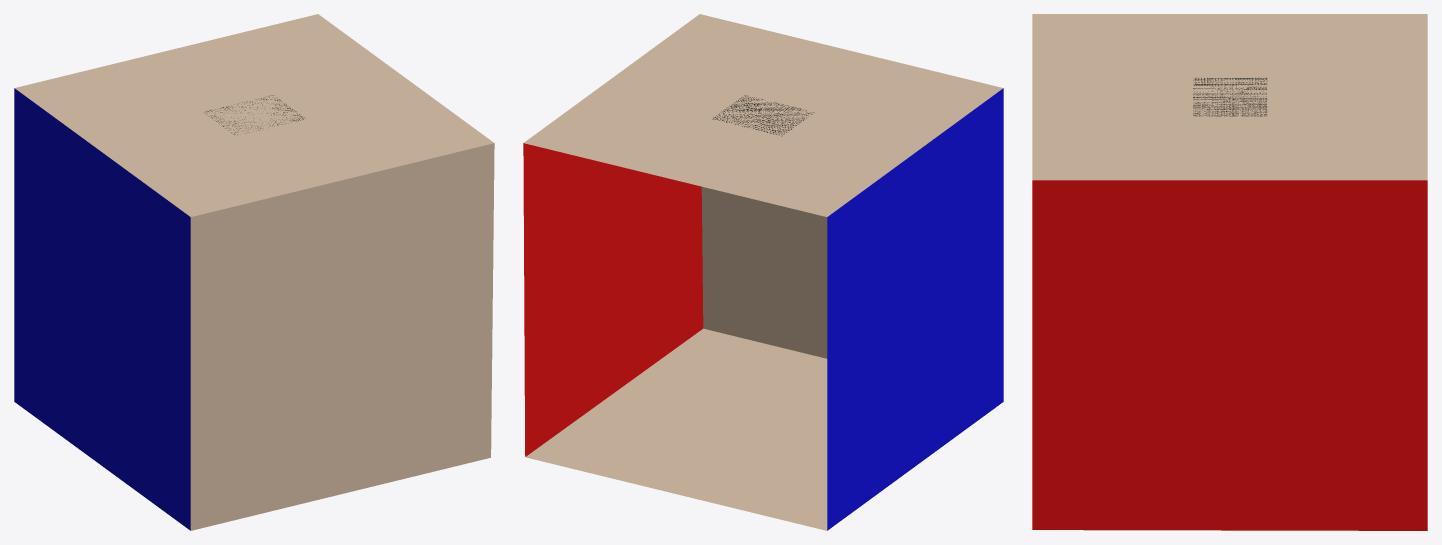
The model's file is cbox2.obj.
The picture shows the model from 3 angles, left to right: view 1: azimuth 30°, elevation 25°; view 2: azimuth 150°, elevation 25°; view 3: azimuth 270°, elevation 25°; orthographic projection. The views are drawn at different scales.
Visible parts, largest first — view 1: cbox:cbox_back_mesh, cbox:cbox_greenwall_mesh, cbox:cbox_ceiling_mesh; view 2: cbox:cbox_greenwall_mesh, cbox:cbox_ceiling_mesh, cbox:cbox_redwall_mesh, cbox:cbox_floor_mesh, cbox:cbox_back_mesh, cbox:cbox_luminaire_mesh; view 3: cbox:cbox_redwall_mesh, cbox:cbox_ceiling_mesh, cbox:cbox_luminaire_mesh.
Boxes of the visible parts, left/top/right/bottom form: cbox:cbox_back_mesh: left=190, top=143, right=494, bottom=530; cbox:cbox_greenwall_mesh: left=14, top=88, right=190, bottom=530; cbox:cbox_ceiling_mesh: left=14, top=14, right=493, bottom=216; cbox:cbox_greenwall_mesh: left=827, top=88, right=1003, bottom=530; cbox:cbox_ceiling_mesh: left=524, top=14, right=1003, bottom=216; cbox:cbox_redwall_mesh: left=523, top=143, right=703, bottom=456; cbox:cbox_floor_mesh: left=525, top=328, right=827, bottom=530; cbox:cbox_back_mesh: left=701, top=186, right=827, bottom=358; cbox:cbox_luminaire_mesh: left=712, top=95, right=814, bottom=136; cbox:cbox_redwall_mesh: left=1032, top=180, right=1427, bottom=530; cbox:cbox_ceiling_mesh: left=1032, top=14, right=1427, bottom=180; cbox:cbox_luminaire_mesh: left=1193, top=78, right=1267, bottom=116.
Size of the model in its own units: 556 by 549 by 559.
